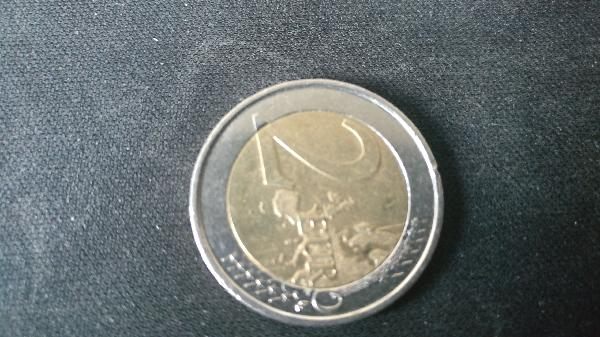Two Euro: (182, 75, 464, 323)
